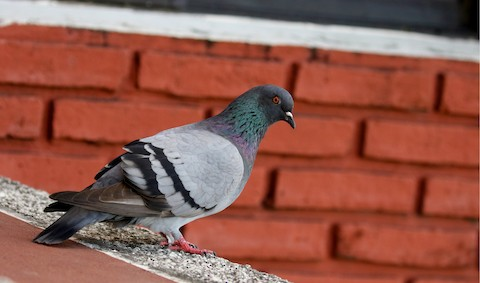pigeon: (30, 82, 301, 254)
